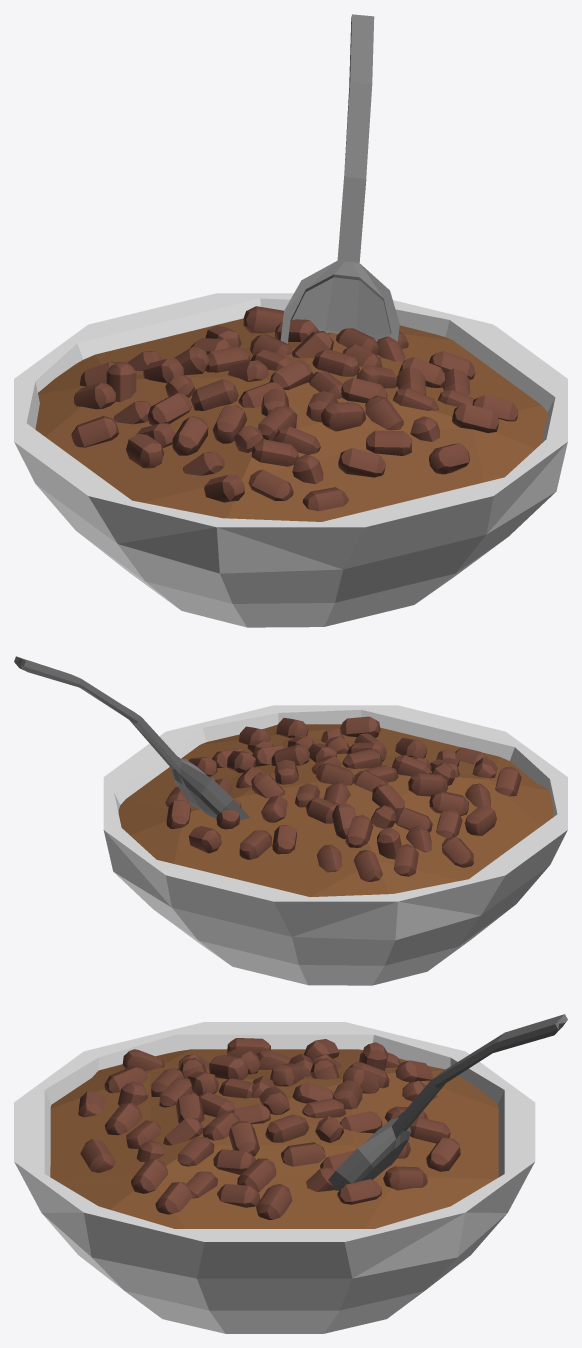
File: Frijoles.fbx
The picture shows the model from 3 angles, top to bottom: view 1: azimuth 30°, elevation 25°; view 2: azimuth 150°, elevation 25°; view 3: azimuth 270°, elevation 25°; orthographic projection. The views are drawn at different scales.
Parts seen in each view (by area): view 1: pCube67; view 2: pCube67; view 3: pCube67.
Part boxes in pixels (box(x1,y1,x2,y2)): pCube67: box(14, 14, 567, 627); pCube67: box(14, 656, 567, 985); pCube67: box(14, 1014, 567, 1333).
Size of the model in its own units: 12.84 by 10.21 by 13.64.
